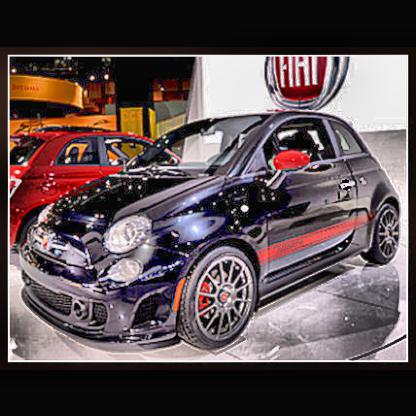FIAT 500 Abarth 2012: (20, 112, 401, 352)
